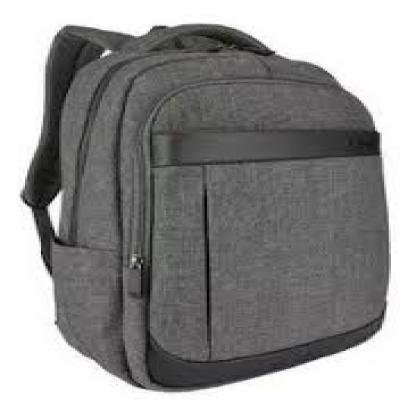morral: (18, 12, 409, 399)
